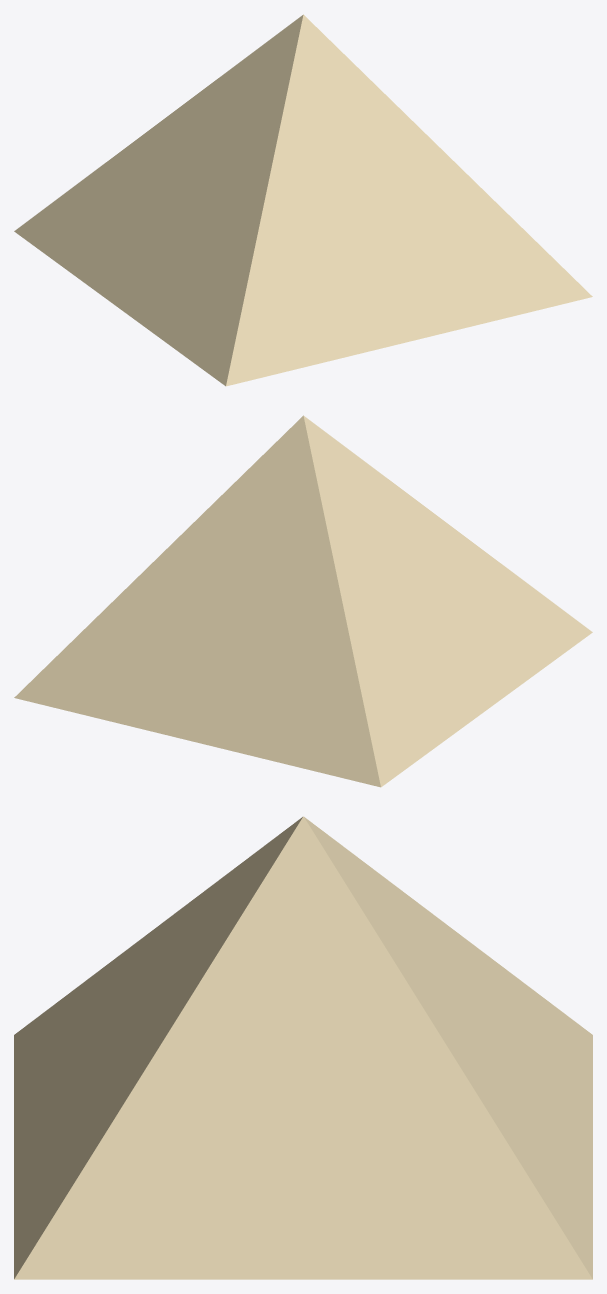
Rendered from khafre_pyramid.glb.
3 renders of one model, top to bottom at view 1: azimuth 30°, elevation 25°; view 2: azimuth 150°, elevation 25°; view 3: azimuth 270°, elevation 25°, orthographic. The views are drawn at different scales.
Bounding box in the file's own units: 2 × 1.3 × 2.
